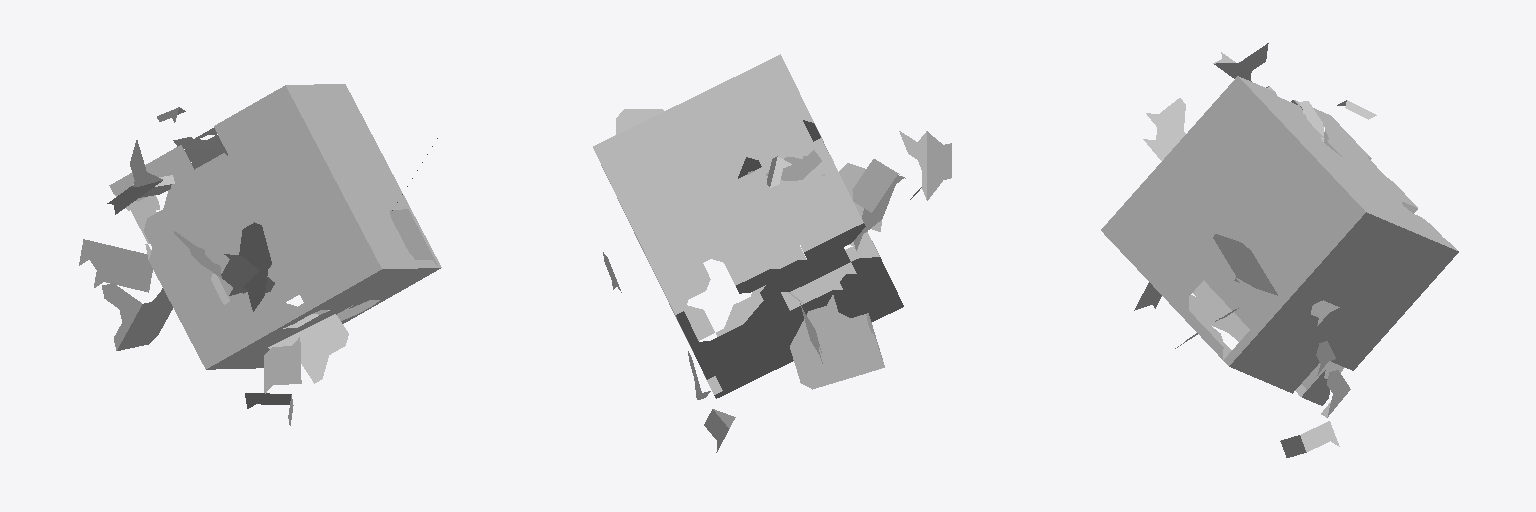
File: explode_000023.obj
The picture shows the model from 3 angles: view 1: azimuth 30°, elevation 25°; view 2: azimuth 150°, elevation 25°; view 3: azimuth 270°, elevation 25°; orthographic projection.
Parts seen in each view (by area): view 1: Cube_Cube.001; view 2: Cube_Cube.001; view 3: Cube_Cube.001.
Part boxes in pixels (x1,y1,x2,y2): Cube_Cube.001: (79, 84, 441, 425); Cube_Cube.001: (593, 54, 951, 452); Cube_Cube.001: (1101, 43, 1458, 457).
Size of the model in its own units: 3.67 by 3.88 by 3.42.